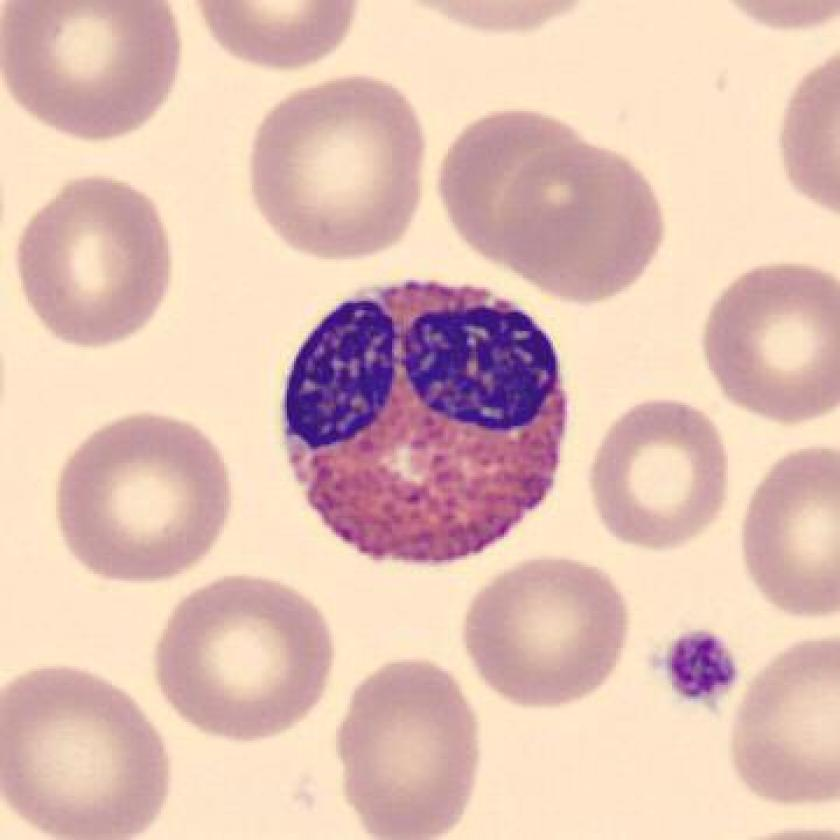eosinophil: (267, 267, 584, 580)
